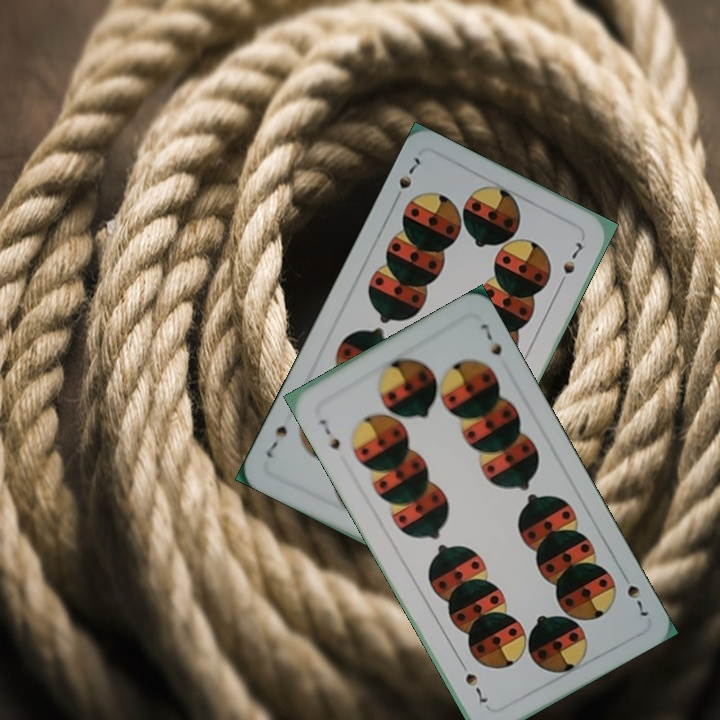S7: (617, 566, 652, 619), (389, 153, 423, 206), (315, 415, 343, 452)
